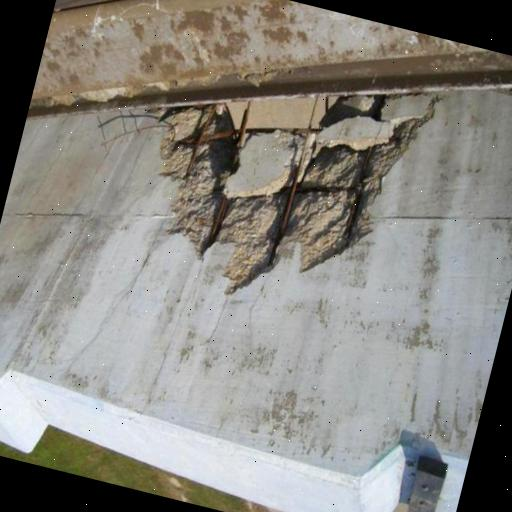spalling: (155, 94, 446, 298)
